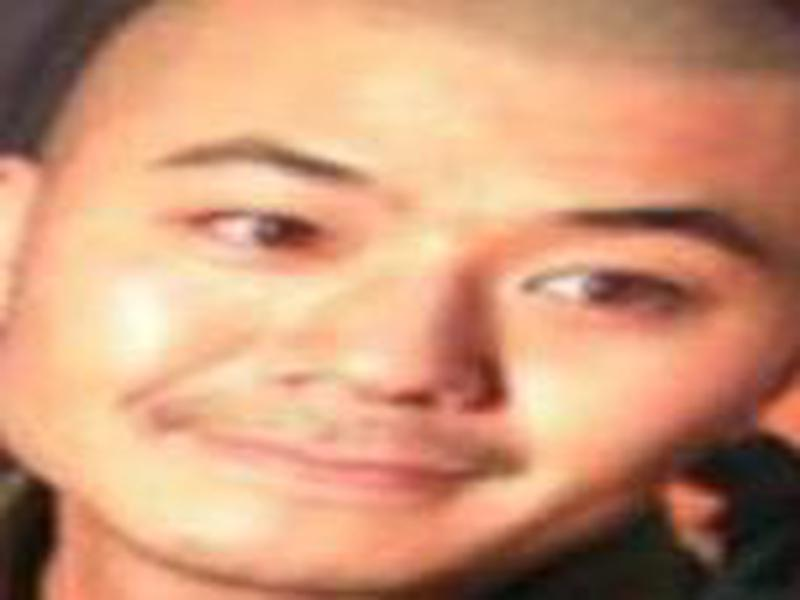without_mask: (49, 19, 768, 591)
